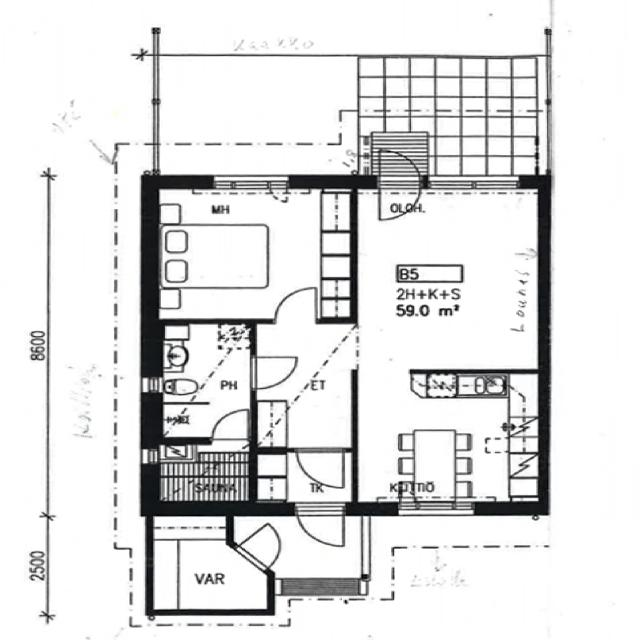door: (375, 146, 425, 218), (292, 447, 350, 491), (293, 504, 348, 550), (268, 284, 322, 325), (246, 353, 298, 392), (377, 184, 422, 221), (240, 532, 283, 570), (207, 408, 253, 442), (263, 178, 293, 206)
window: (423, 174, 528, 197), (205, 173, 290, 195), (396, 499, 474, 518), (536, 0, 560, 46), (540, 54, 558, 102), (536, 20, 558, 58), (136, 446, 158, 467)
zone: (340, 197, 540, 367), (153, 187, 333, 322), (362, 382, 542, 506), (250, 324, 356, 454), (152, 320, 254, 442), (148, 514, 265, 614), (148, 438, 252, 502)
